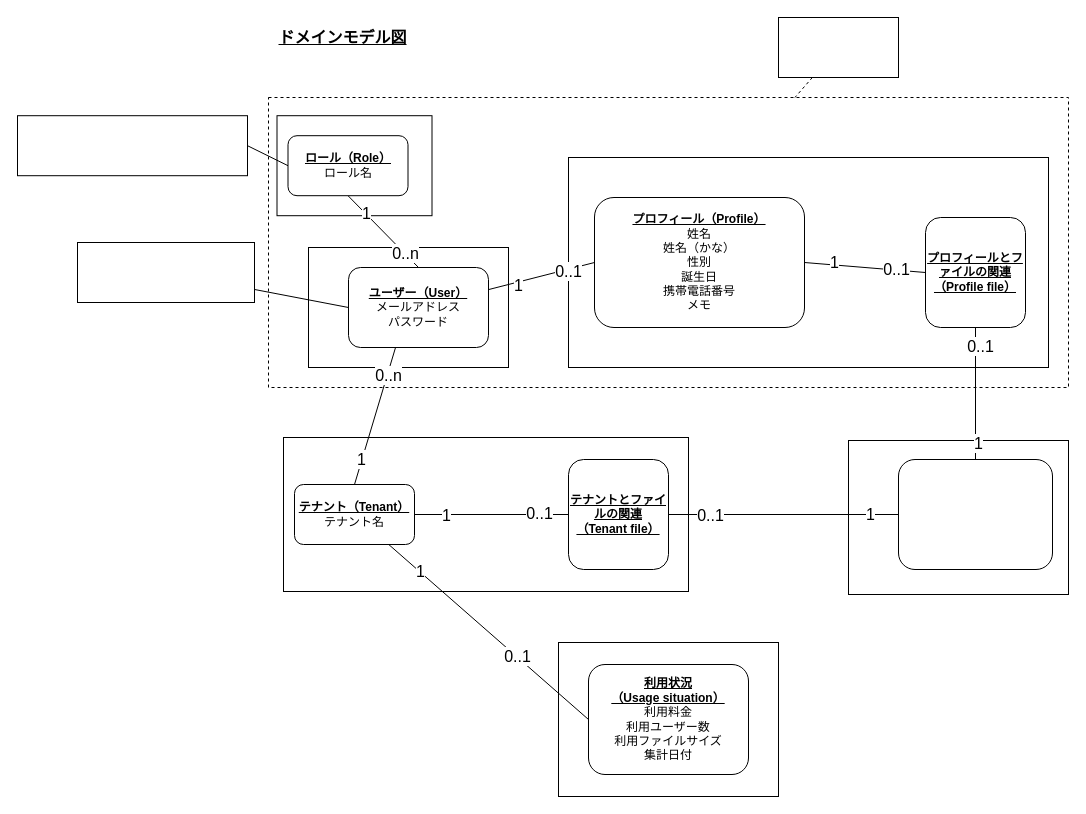
This 1086x814 diagram has some shape labels left out. The box of each missing label's shape, as (x1, y1, x2, y2) in pixels:
ファイル（File） ファイル名 ファイルサイズ メディアタイプ ディレクトリ: (898, 458, 1052, 570)
メールアドレスは重複してはならない: (76, 242, 254, 302)
ロールは「システム管理者」「テナント管理者」「社員」: (16, 115, 248, 176)
次の実装範囲: (778, 16, 898, 78)
